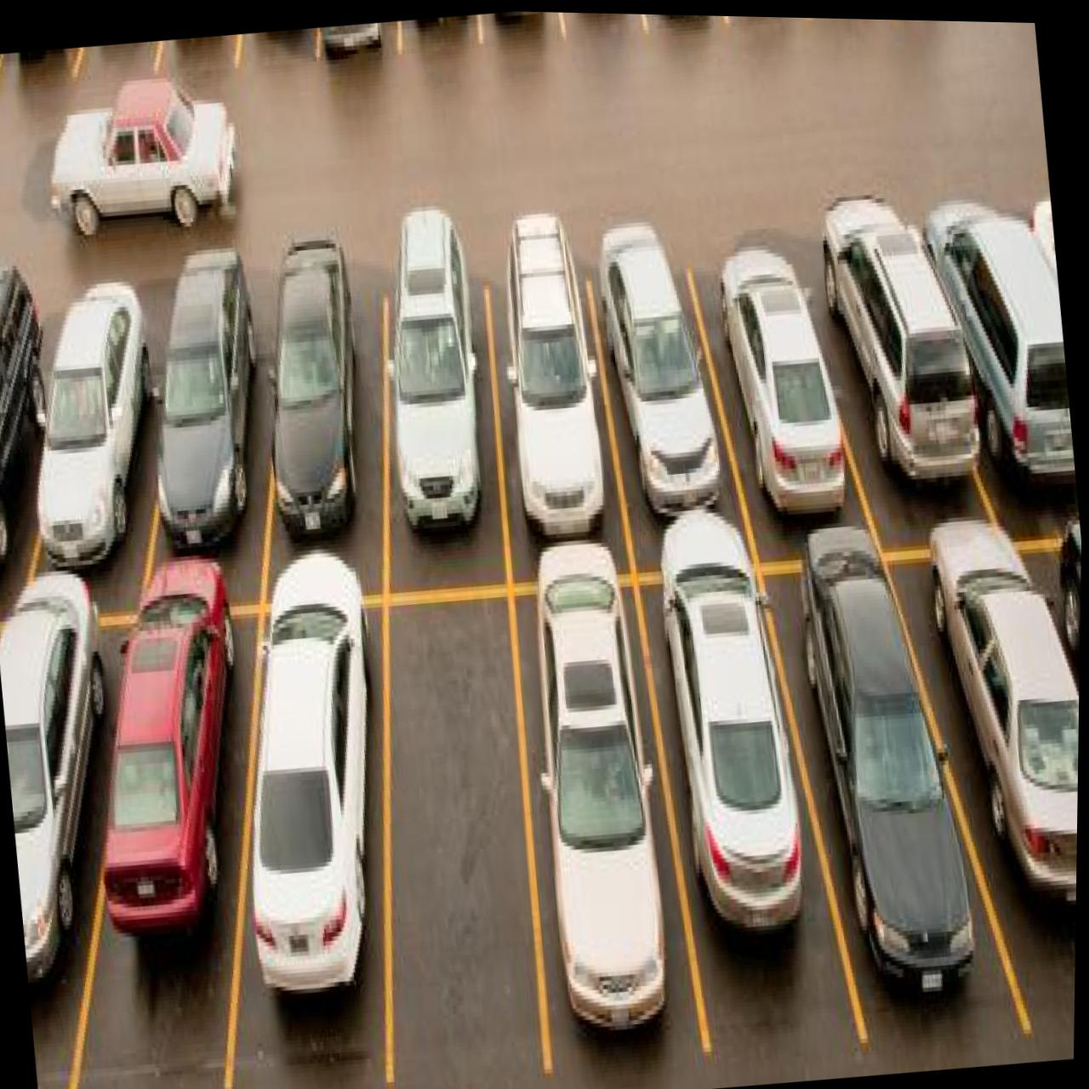cars: (48, 567, 308, 1073), (755, 531, 1003, 1052), (626, 549, 864, 1060), (897, 512, 1082, 1014), (502, 576, 708, 1026), (229, 567, 407, 1046), (927, 132, 1085, 531), (815, 182, 997, 527), (702, 199, 871, 539), (361, 218, 520, 561), (131, 250, 303, 562), (475, 215, 631, 557), (588, 214, 739, 556), (250, 236, 406, 557), (32, 272, 167, 579)
empty: (369, 579, 556, 1039)
